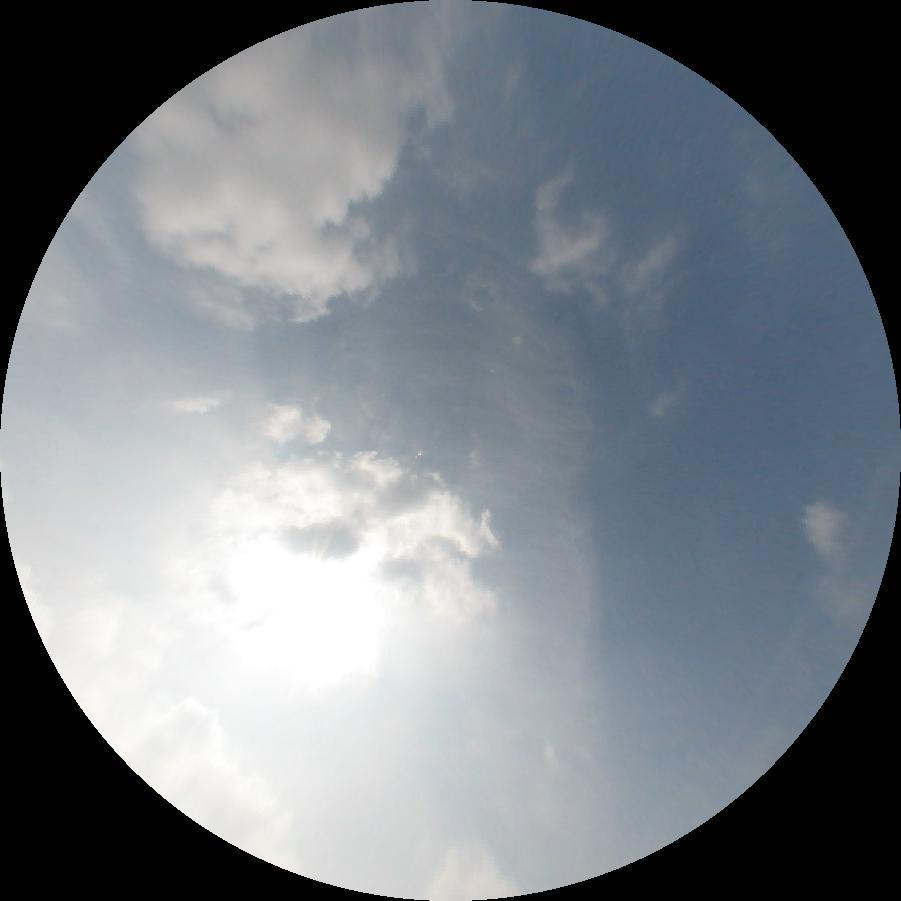sun: (246, 545, 388, 691)
unknow: (721, 458, 901, 750)
